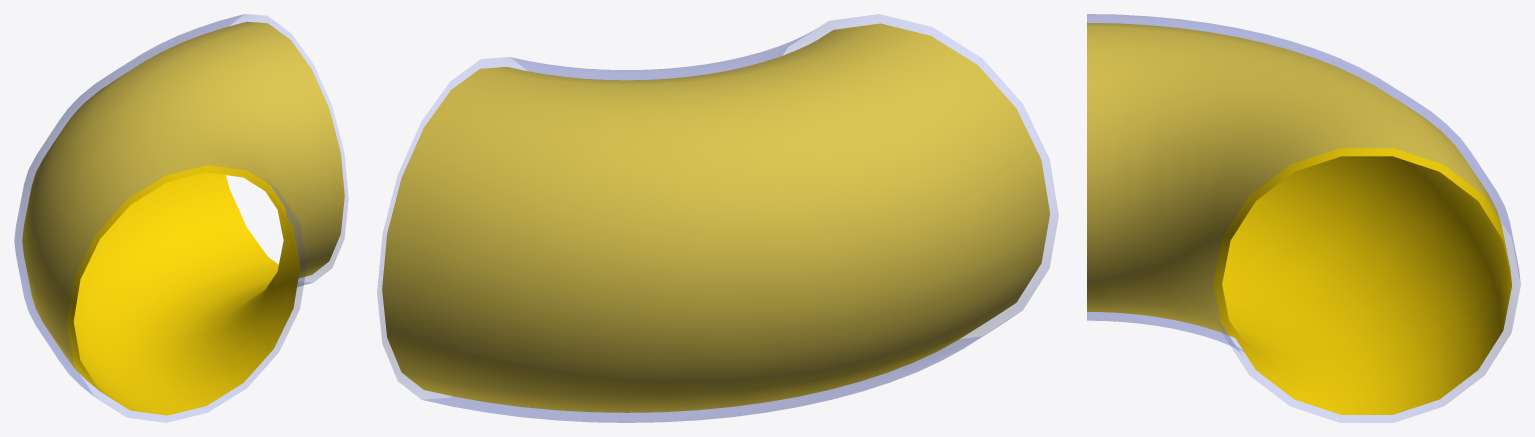
The model's file is 冷冻供-弯头.glb.
3 renders of one model, left to right at view 1: azimuth 30°, elevation 25°; view 2: azimuth 150°, elevation 25°; view 3: azimuth 270°, elevation 25°, orthographic. The views are drawn at different scales.
Visible parts, largest first — view 1: 贴图, Box001; view 2: Box001, 贴图; view 3: 贴图, Box001.
Boxes of the visible parts, x1=… form: 贴图: x1=22, y1=21, x2=344, y2=415; Box001: x1=14, y1=14, x2=348, y2=422; Box001: x1=377, y1=14, x2=1058, y2=422; 贴图: x1=382, y1=23, x2=1049, y2=412; 贴图: x1=1087, y1=22, x2=1511, y2=414; Box001: x1=1087, y1=14, x2=1520, y2=422.
Size of the model in its own units: 4.93 by 3.45 by 4.93.
